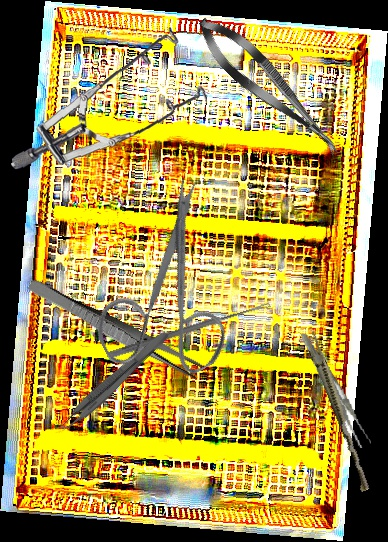Dressing Forceps: (24, 276, 205, 382), (301, 325, 372, 455)
Iris Scissors: (50, 173, 275, 406)
Micro Scissor: (188, 7, 351, 167)
Speculum: (11, 17, 211, 181)
Surgical Spoon: (105, 299, 273, 361)
Tissue Forceps: (53, 323, 171, 439), (301, 330, 376, 493)
